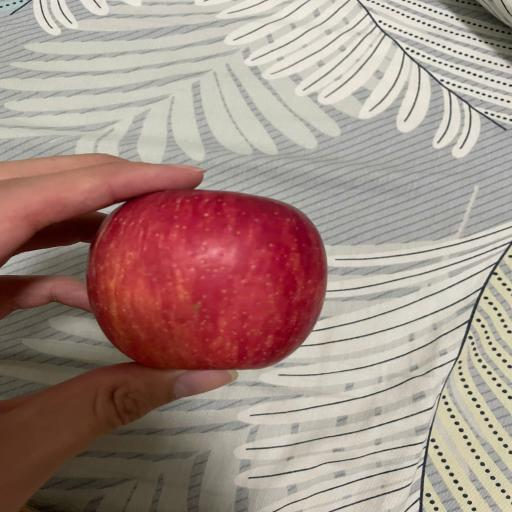apple: (87, 189, 327, 370)
